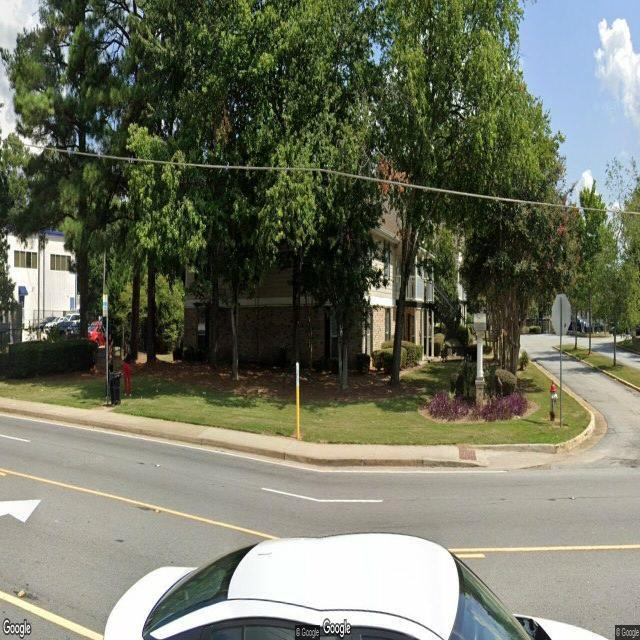trash_can: (110, 372, 122, 405)
